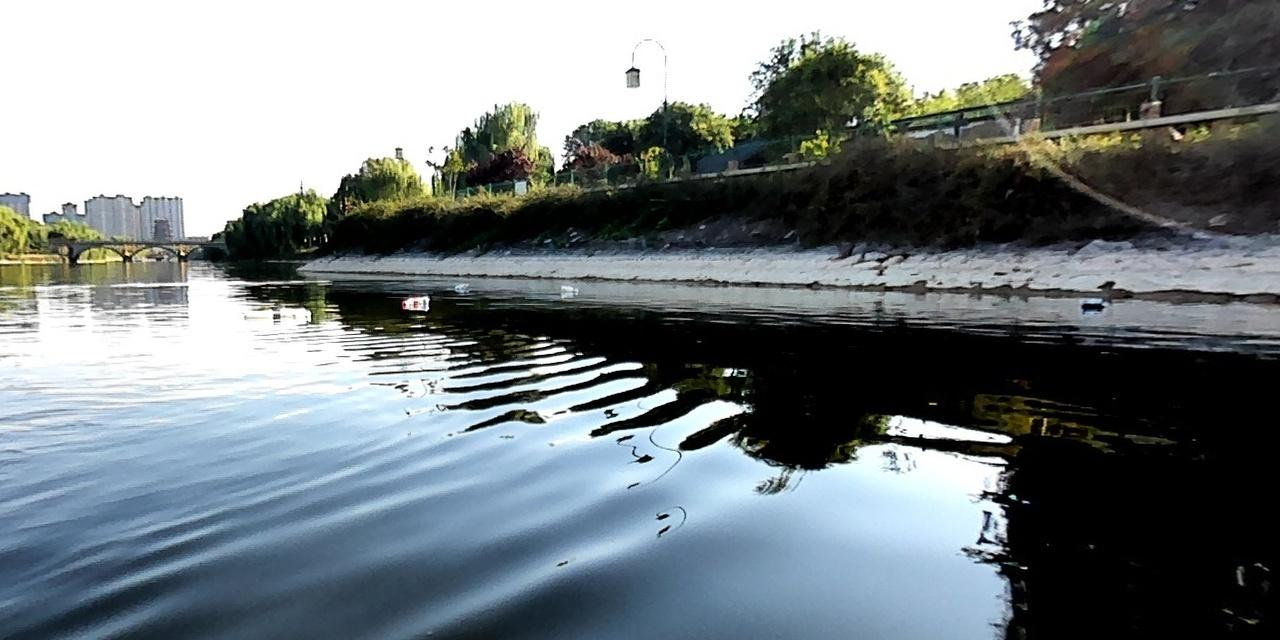bottle: (398, 294, 431, 307), (278, 304, 311, 316), (557, 282, 580, 293), (451, 278, 471, 290)
